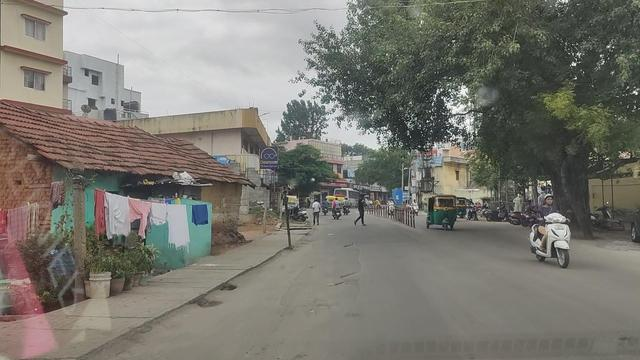RoadDamages: (269, 268, 303, 311), (325, 270, 360, 290), (300, 303, 333, 317), (342, 239, 365, 255), (196, 297, 221, 311), (223, 282, 240, 293)
